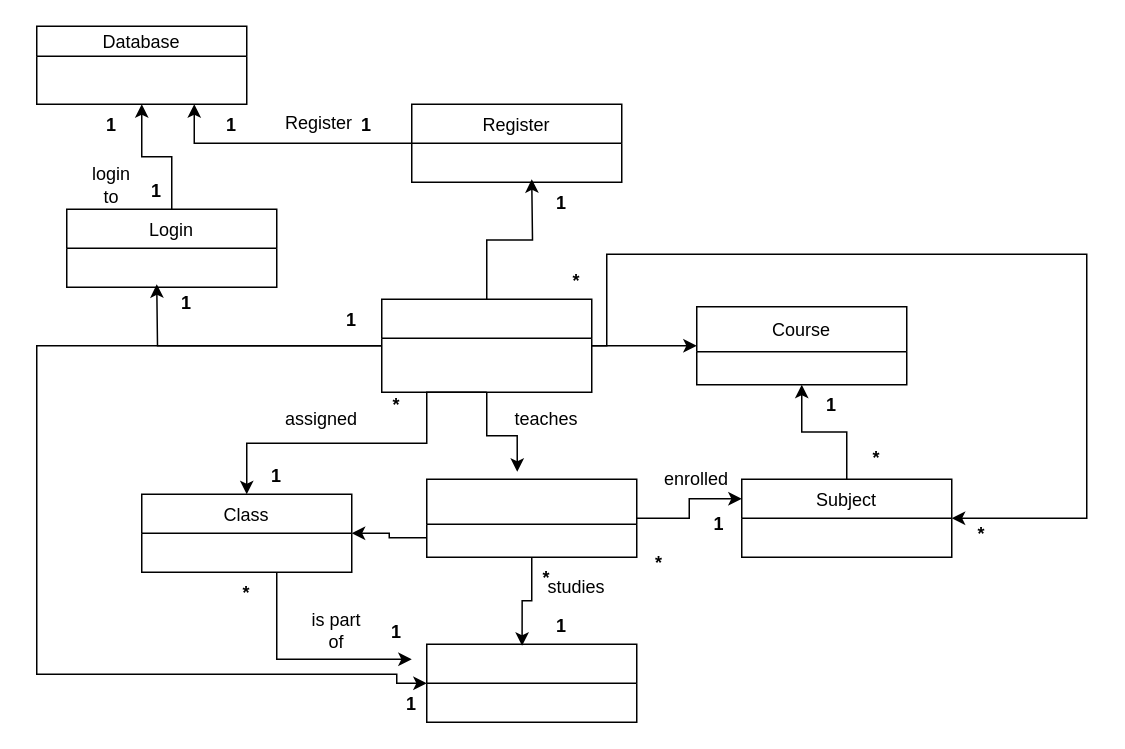
Some shapes in this 1125 by 749 pixel diagram are drawn without their labels. Here are the shapes that lost their labels. From the top down, the box of each, then its label:
(380, 298, 592, 392): Faculty
(425, 478, 637, 557): Student
(425, 643, 637, 722): University
